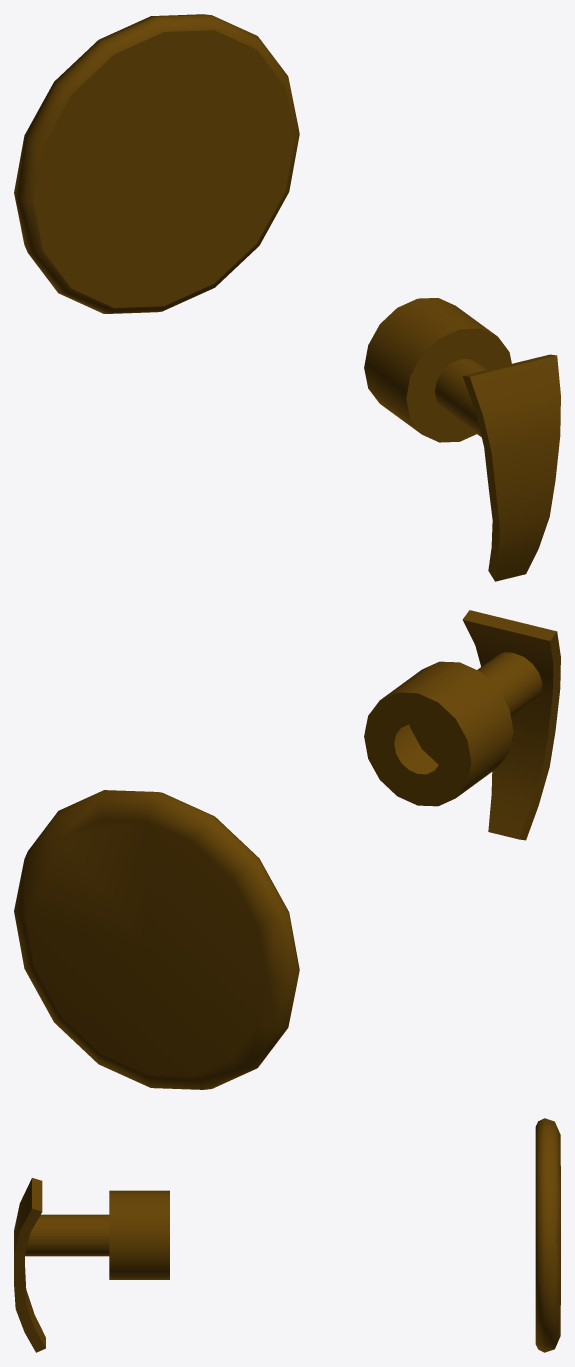
The model's file is MeshSoapBottle_9_0_GeomSubset_1.obj.
The picture shows the model from 3 angles, top to bottom: view 1: azimuth 30°, elevation 25°; view 2: azimuth 150°, elevation 25°; view 3: azimuth 270°, elevation 25°; orthographic projection. The views are drawn at different scales.
Visible parts, largest first — view 1: MeshSoapBottle_9_0_GeomSubset_1; view 2: MeshSoapBottle_9_0_GeomSubset_1; view 3: MeshSoapBottle_9_0_GeomSubset_1.
Part boxes in pixels (x1=…): MeshSoapBottle_9_0_GeomSubset_1: x1=14, y1=14, x2=560, y2=581; MeshSoapBottle_9_0_GeomSubset_1: x1=14, y1=610, x2=560, y2=1089; MeshSoapBottle_9_0_GeomSubset_1: x1=14, y1=1118, x2=560, y2=1352.
Size of the model in its own units: 0.1126 by 0.1155 by 0.2623.
